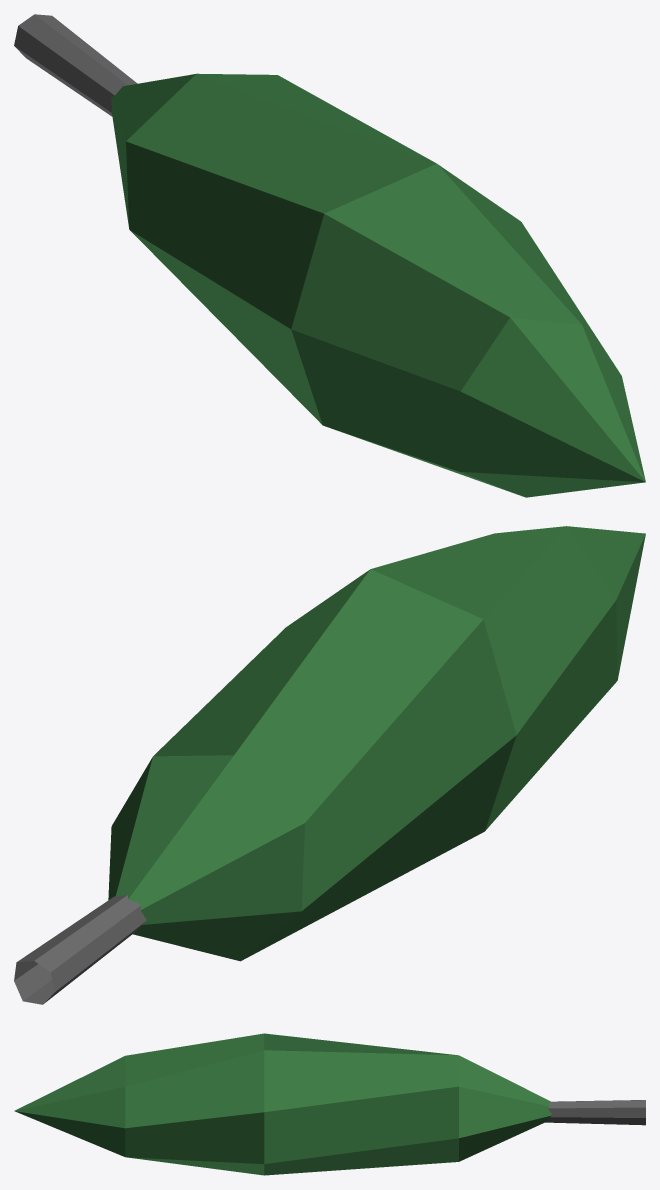
File: growth_0.glb
3 views of the same model, one above another, from view 1: azimuth 30°, elevation 25°; view 2: azimuth 150°, elevation 25°; view 3: azimuth 270°, elevation 25° (orthographic). The views are drawn at different scales.
Parts seen in each view (by area): view 1: tree_10_growth_0; view 2: tree_10_growth_0; view 3: tree_10_growth_0.
Part boxes in pixels (left/top/right/bottom): tree_10_growth_0: left=14, top=14, right=645, bottom=497; tree_10_growth_0: left=14, top=526, right=645, bottom=1004; tree_10_growth_0: left=14, top=1033, right=645, bottom=1175.
Size of the model in its own units: 5.61 by 5.77 by 25.78.
